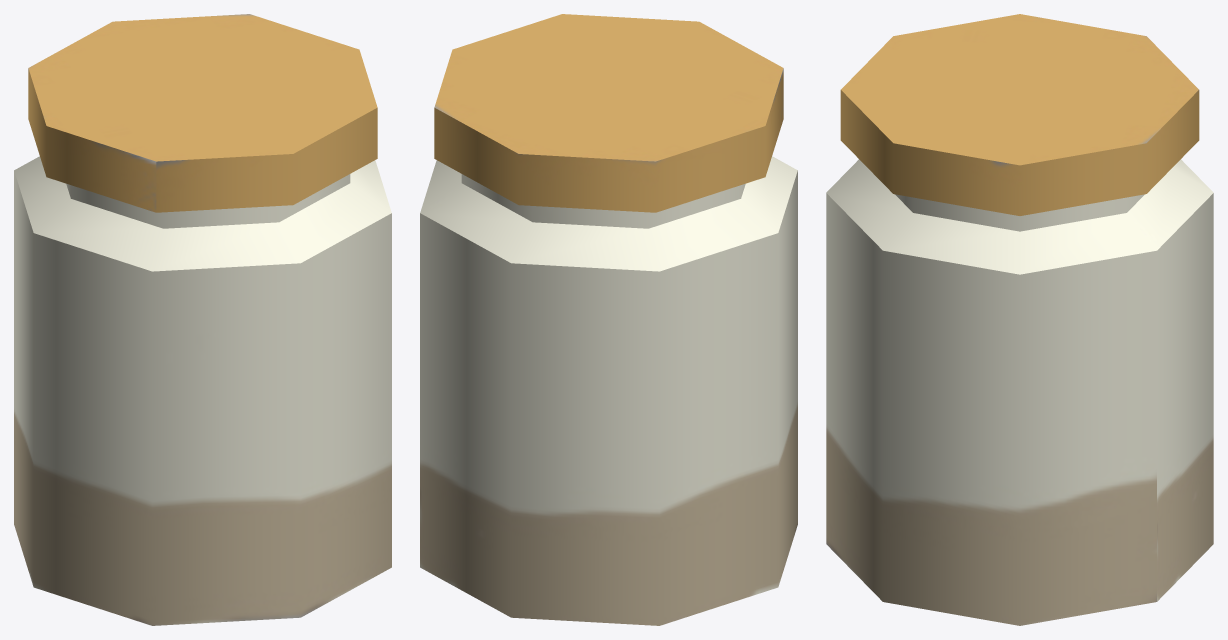
File: jar_big.fbx
The picture shows the model from 3 angles, left to right: view 1: azimuth 30°, elevation 25°; view 2: azimuth 150°, elevation 25°; view 3: azimuth 270°, elevation 25°; orthographic projection.
Parts seen in each view (by area): view 1: jar_big; view 2: jar_big; view 3: jar_big.
Boxes of the visible parts, x1,y1,x2,y2 form: jar_big: (14,14,391,625); jar_big: (420,14,797,625); jar_big: (826,14,1213,625).
Bounding box in the file's own units: 0.8364 × 1.08 × 0.8364.
